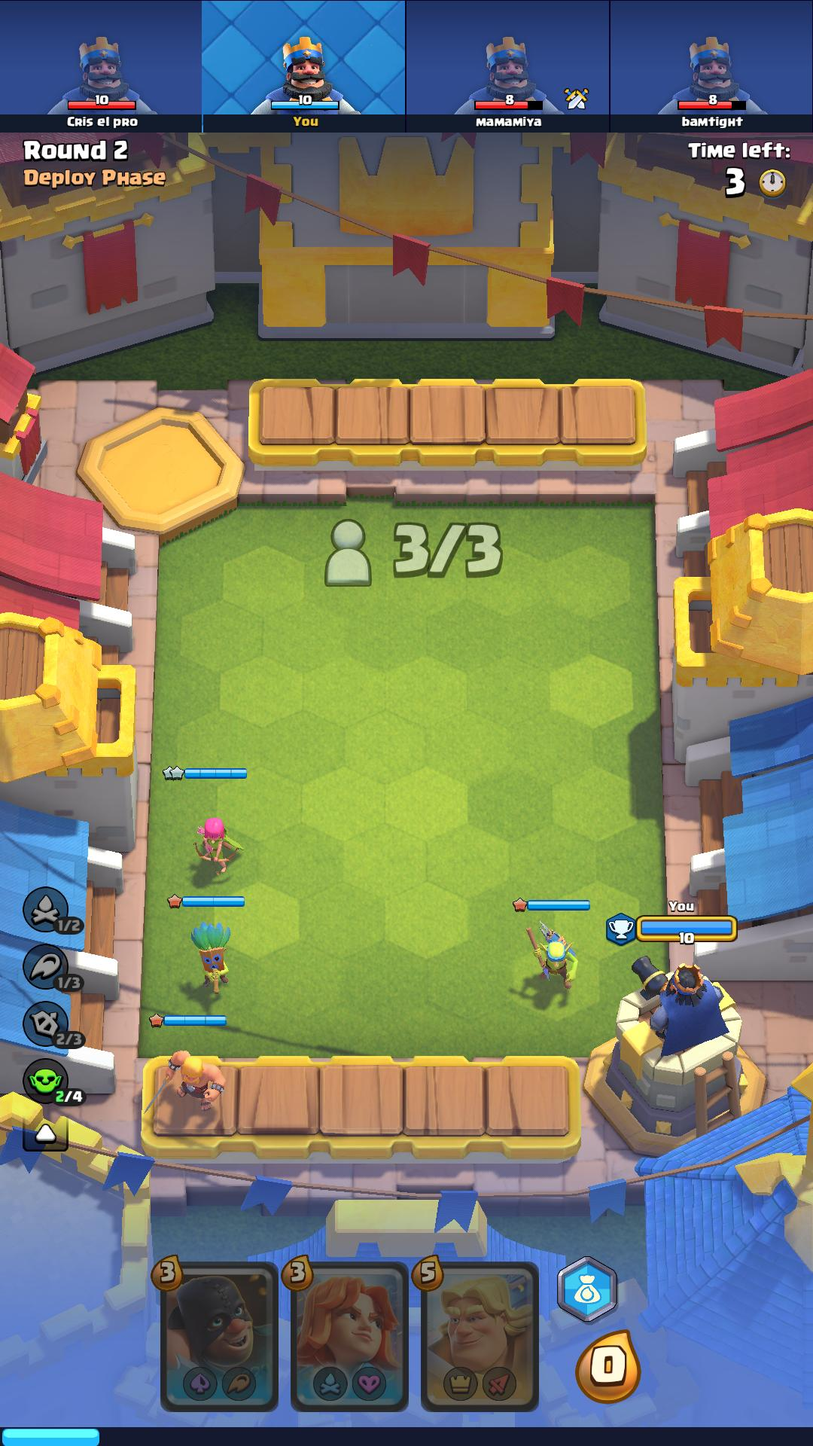archer: (184, 812, 247, 874)
barbarian: (146, 1045, 230, 1120)
dart: (178, 919, 245, 999)
hand-executioner: (164, 1266, 278, 1404)
hand-golden: (423, 1264, 535, 1407)
hand-valkyrie: (293, 1265, 408, 1406)
spear: (513, 918, 588, 988)
